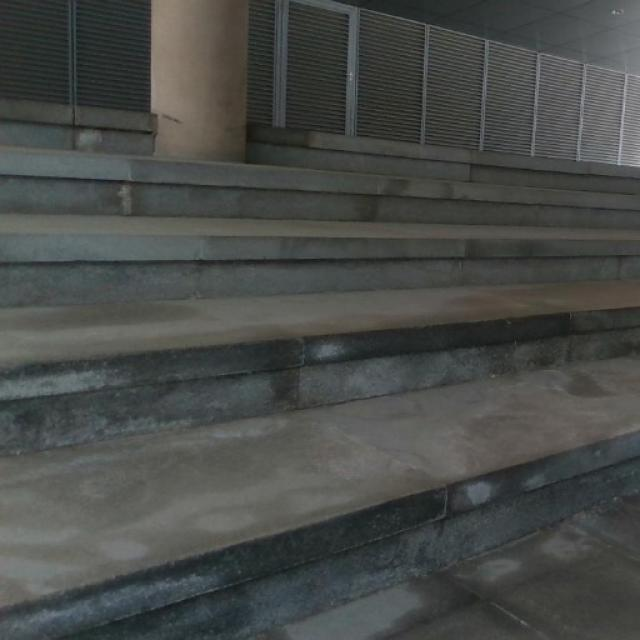Stairs: (0, 106, 639, 639)
